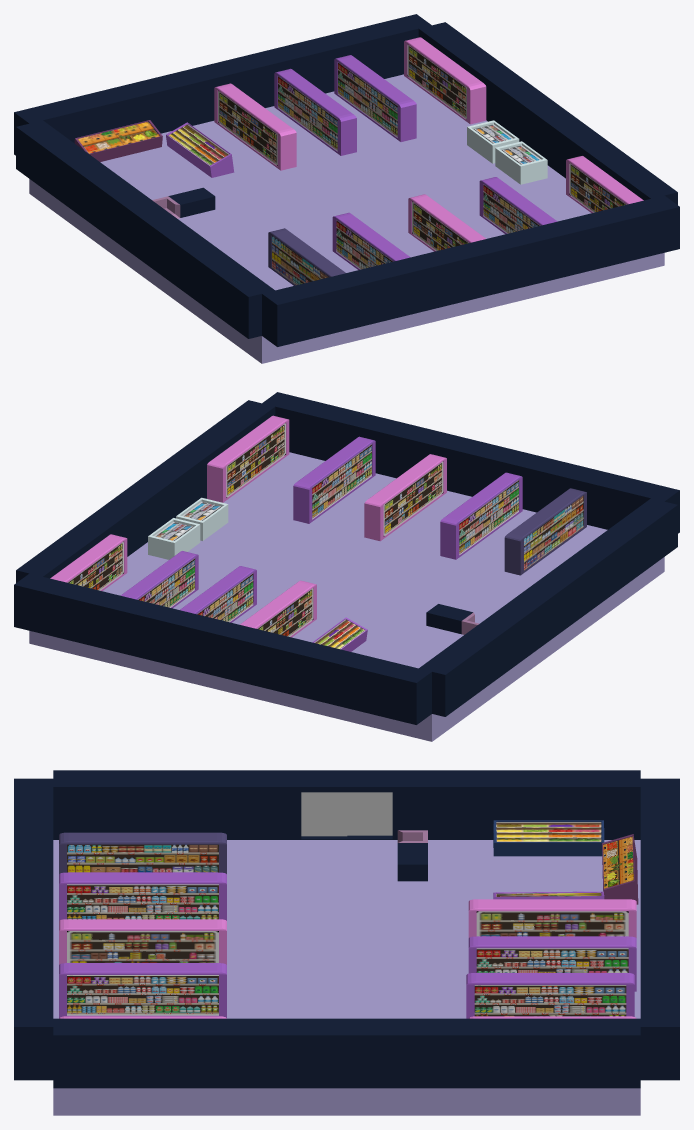
Rendered from Supermarkt-GameJam (1).fbx.
3 renders of one model, top to bottom at view 1: azimuth 30°, elevation 25°; view 2: azimuth 150°, elevation 25°; view 3: azimuth 270°, elevation 25°, orthographic. The views are drawn at different scales.
Parts seen in each view (by area): view 1: Wände, Boden, Regal3.002, Regal2.001, Regal3.003, Regal2.003, Regal2, Regal2.002, Regal3, Regal1, Regal3.001, Obst2 (+4 smaller); view 2: Wände, Boden, Regal2, Regal3, Regal2.002, Regal1, Regal3.001, Regal2.003, Regal3.002, Regal2.001, Regal3.003, freezer2 (+3 smaller); view 3: Wände, Boden, Regal2.002, Regal2, Regal2.003, Regal3, Regal1, Regal3.003, Regal2.001, Obst, Obst2, Kasse (+1 smaller).
Boxes of the visible parts, bbox=[...] form: Wände: bbox=[14, 14, 679, 346]; Boden: bbox=[29, 74, 664, 363]; Regal3.002: bbox=[404, 37, 486, 124]; Regal2.001: bbox=[274, 68, 356, 155]; Regal3.003: bbox=[214, 83, 296, 170]; Regal2.003: bbox=[334, 55, 416, 141]; Regal2: bbox=[332, 212, 410, 269]; Regal2.002: bbox=[479, 177, 557, 234]; Regal3: bbox=[408, 194, 485, 251]; Regal1: bbox=[268, 228, 345, 285]; Regal3.001: bbox=[566, 156, 643, 212]; Obst2: bbox=[74, 120, 162, 161]; Wände: bbox=[14, 392, 679, 724]; Boden: bbox=[29, 452, 664, 741]; Regal2: bbox=[440, 472, 522, 559]; Regal3: bbox=[364, 454, 446, 541]; Regal2.002: bbox=[293, 436, 375, 523]; Regal1: bbox=[504, 488, 586, 575]; Regal3.001: bbox=[207, 415, 289, 502]; Regal2.003: bbox=[121, 551, 198, 608]; Regal3.002: bbox=[50, 534, 127, 590]; Regal2.001: bbox=[180, 566, 256, 622]; Regal3.003: bbox=[240, 580, 316, 637]; freezer2: bbox=[148, 518, 200, 559]; Wände: bbox=[14, 770, 679, 1088]; Boden: bbox=[53, 840, 640, 1115]; Regal2.002: bbox=[59, 963, 226, 1017]; Regal2: bbox=[59, 872, 226, 920]; Regal2.003: bbox=[466, 973, 634, 1018]; Regal3: bbox=[59, 919, 226, 964]; Regal1: bbox=[59, 832, 226, 873]; Regal3.003: bbox=[468, 899, 636, 937]; Regal2.001: bbox=[468, 936, 636, 991]; Obst: bbox=[493, 820, 604, 856]; Obst2: bbox=[602, 834, 638, 904]; Kasse: bbox=[397, 830, 427, 881].
Bounding box in the file's own units: 3200 × 500 × 3400.
Materials: 29 (29 with a texture image).
